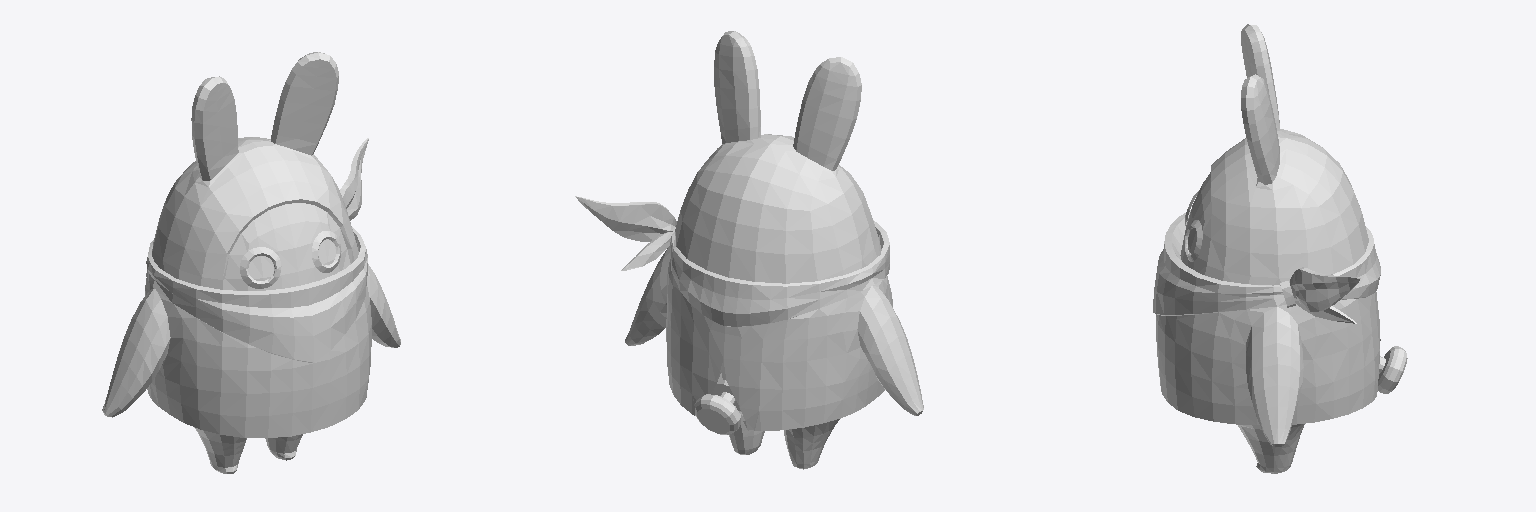
Rendered from bangbu.obj.
3 renders of one model, left to right at view 1: azimuth 30°, elevation 25°; view 2: azimuth 150°, elevation 25°; view 3: azimuth 270°, elevation 25°, orthographic.
Parts seen in each view (by area): view 1: Bangbu06_mesh; view 2: Bangbu06_mesh; view 3: Bangbu06_mesh.
Boxes of the visible parts, x1=… form: Bangbu06_mesh: x1=102, y1=52, x2=400, y2=473; Bangbu06_mesh: x1=575, y1=31, x2=923, y2=469; Bangbu06_mesh: x1=1153, y1=24, x2=1407, y2=473.
Size of the model in its own units: 1.86 by 2.35 by 1.34.